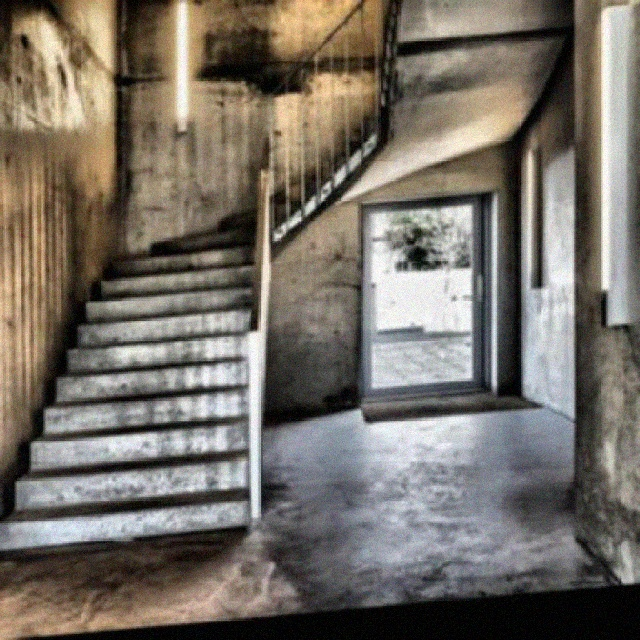stair: (0, 168, 268, 549)
